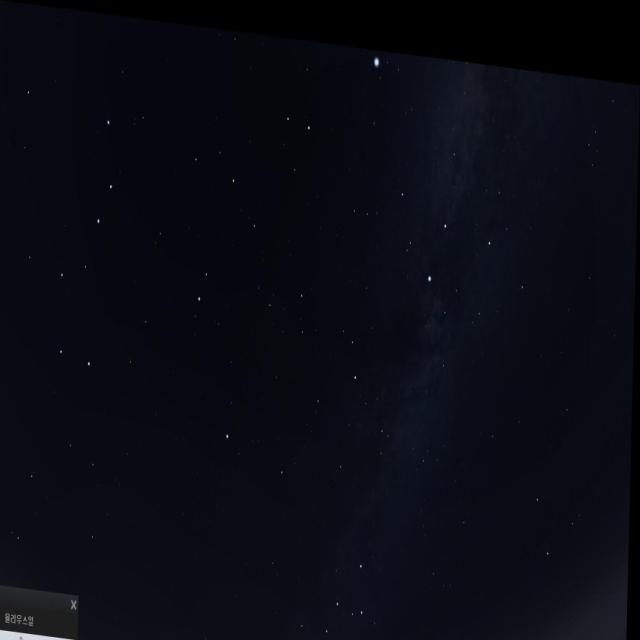cassiopeia: (282, 521, 381, 640)
cygnus: (396, 64, 498, 292)
ursa_major: (34, 88, 131, 391)
